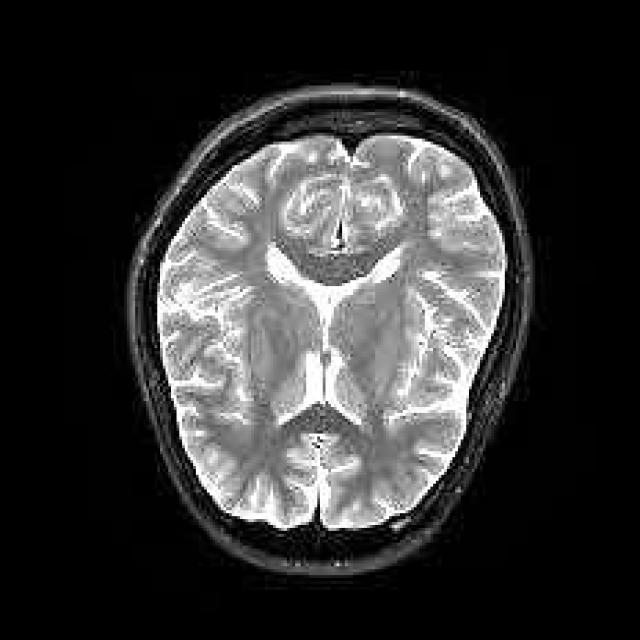no-tumor: (215, 184, 452, 474)
